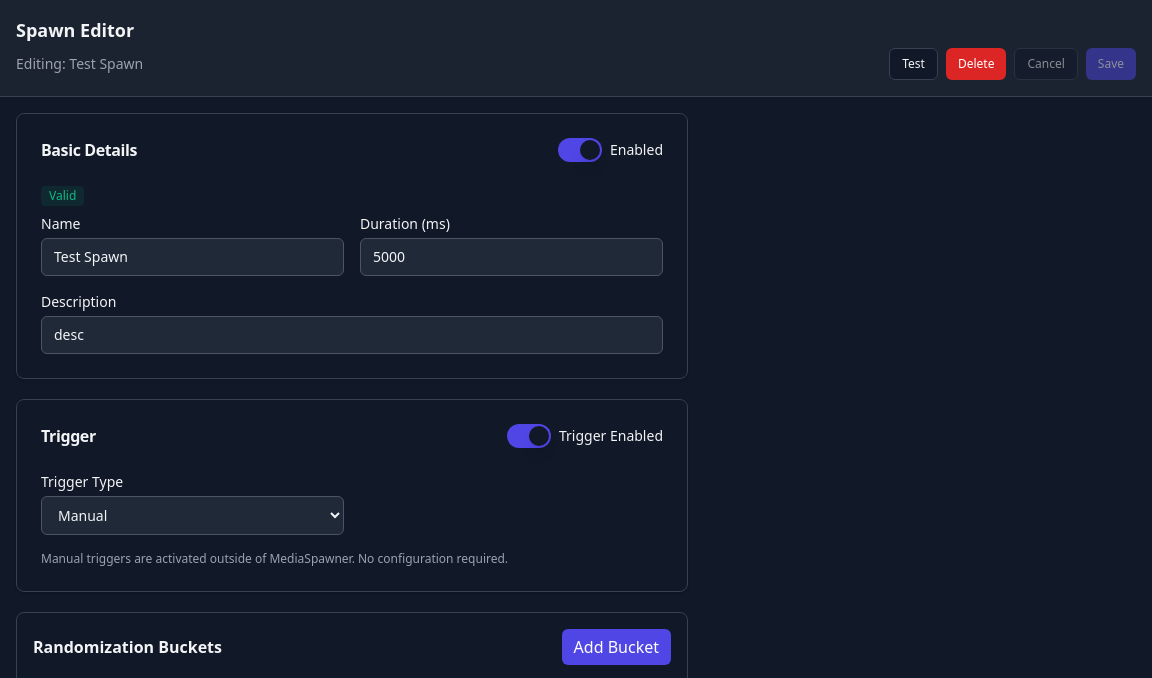
Scenario: SpawnEditorWorkspace › Error Recovery › recovers from network failures during save
Expected: the text "Editing: Test Spawn" is shown, [16, 54, 143, 74]
// Make changes
Replace the text in the field labelled "Name" with "Updated Spawn" at [192, 257], box [41, 238, 344, 276]
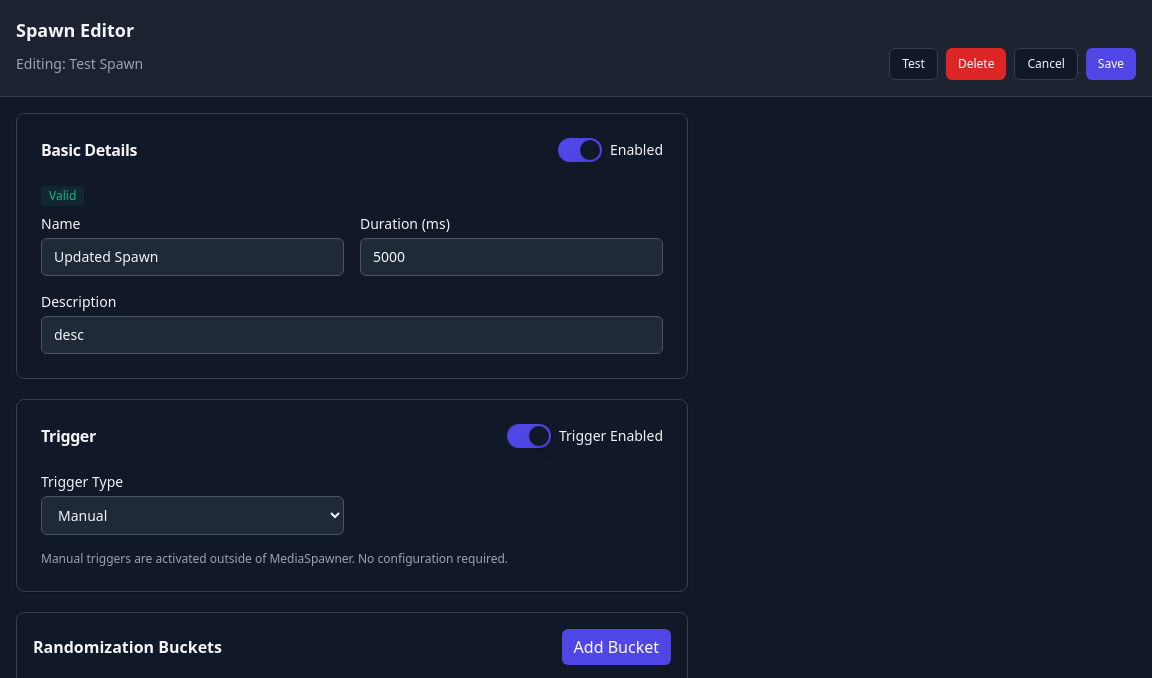
Now the button with aria-label "Save spawn" is enabled
// First save attempt fails
Click the button with aria-label "Save spawn" at [1111, 64], box [1086, 48, 1136, 80]
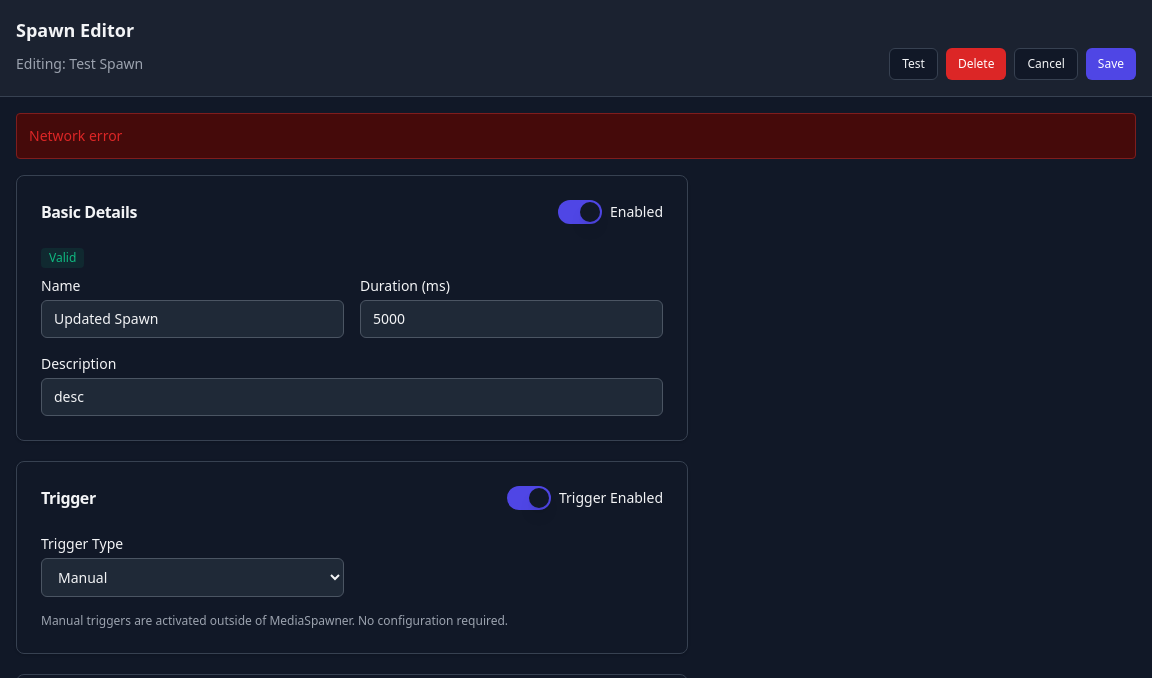
Now the text "Network error" is shown, box [16, 113, 1136, 159]
// Retry save
Click the button with aria-label "Save spawn" at [1111, 64], box [1086, 48, 1136, 80]
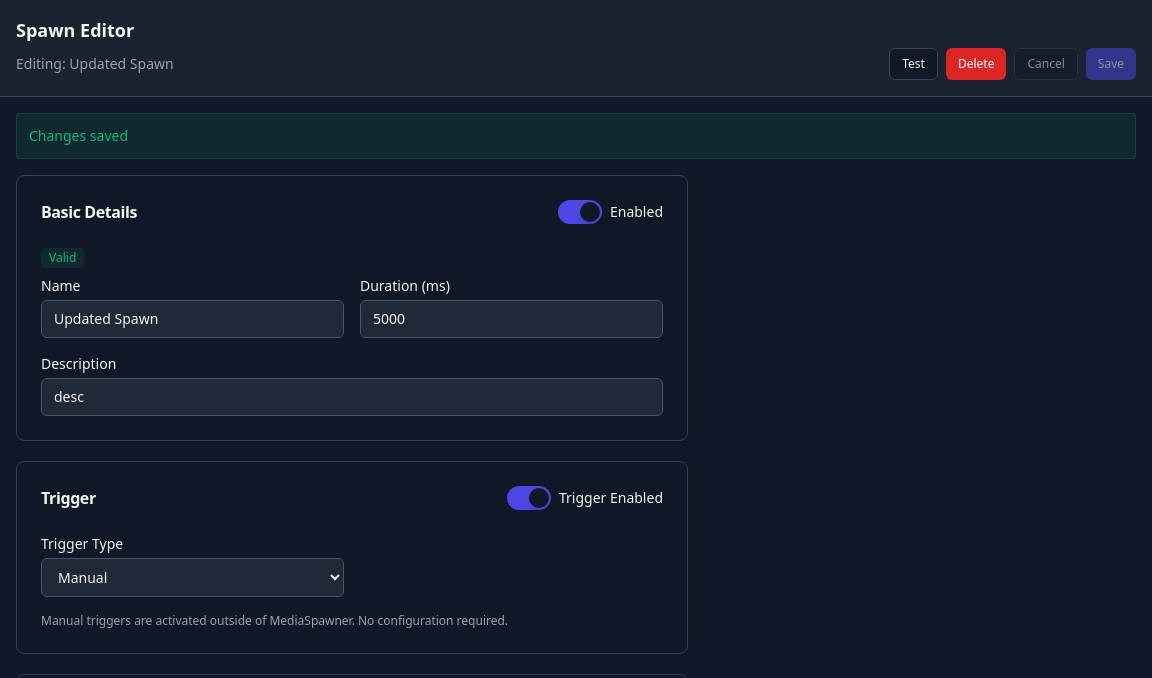
Now the text "Changes saved" is shown, box [16, 113, 1136, 159]
